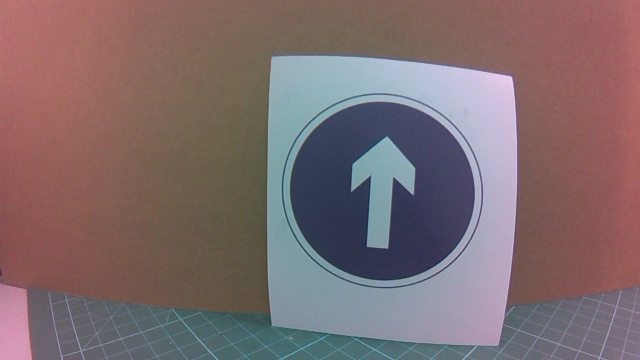forward: (289, 91, 485, 297)
